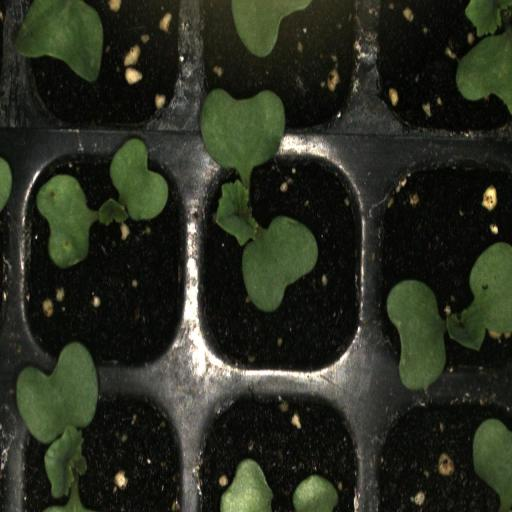Folha: (14, 0, 103, 82), (211, 0, 320, 58), (456, 0, 512, 110), (473, 418, 512, 512)
Germinacao: (195, 145, 371, 387), (13, 145, 193, 375), (375, 146, 512, 385), (13, 379, 193, 512)
